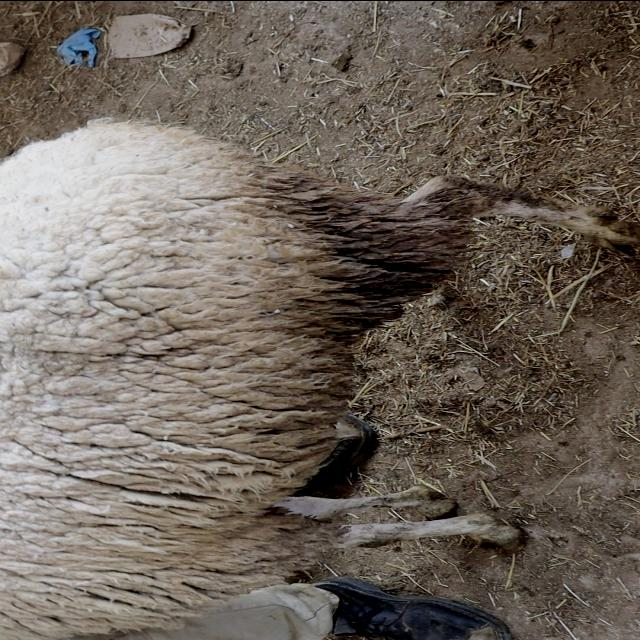Score_3: (0, 117, 637, 640)
